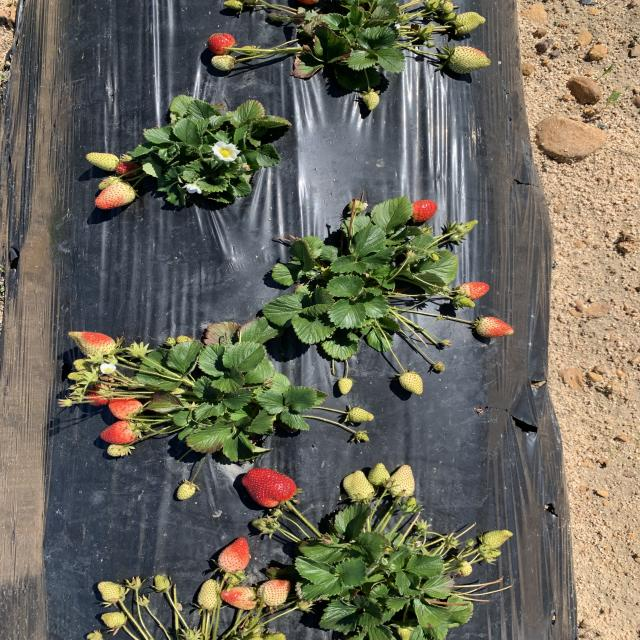unripe: (241, 467, 298, 508), (97, 420, 142, 443), (78, 384, 114, 408), (110, 396, 143, 420), (409, 198, 438, 224), (206, 31, 235, 55), (457, 281, 491, 298)
